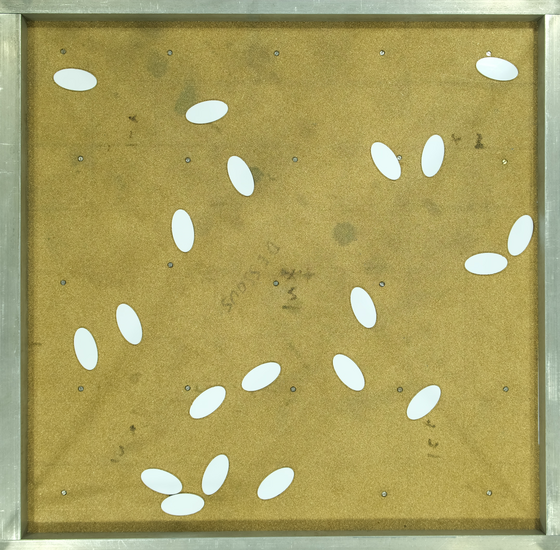pallet: (137, 458, 192, 500), (52, 59, 96, 106), (60, 322, 104, 369), (106, 299, 150, 346), (162, 207, 206, 254), (476, 47, 520, 94), (412, 133, 456, 180), (362, 134, 406, 181), (218, 153, 262, 200), (186, 87, 230, 134), (196, 448, 240, 495), (494, 212, 538, 259), (464, 241, 508, 288), (341, 285, 385, 332), (329, 349, 373, 396), (237, 349, 281, 396), (187, 379, 231, 426), (255, 460, 299, 507), (402, 379, 446, 426), (159, 482, 205, 518)
